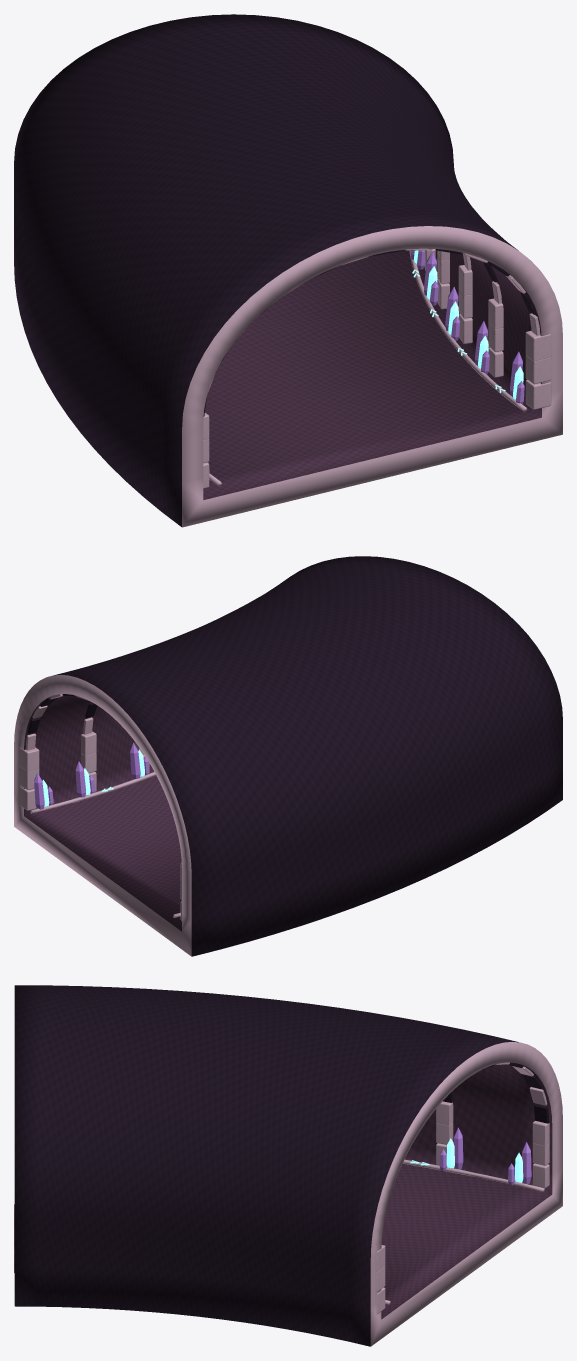
File: curve_right_30.glb
3 renders of one model, top to bottom at view 1: azimuth 30°, elevation 25°; view 2: azimuth 150°, elevation 25°; view 3: azimuth 270°, elevation 25°, orthographic. The views are drawn at different scales.
Visible parts, largest first — view 1: TunnelGeometry; view 2: TunnelGeometry; view 3: TunnelGeometry.
Part boxes in pixels (left/top/right/bottom): TunnelGeometry: left=14, top=14, right=562, bottom=527; TunnelGeometry: left=14, top=556, right=562, bottom=956; TunnelGeometry: left=14, top=985, right=562, bottom=1346.
Size of the model in its own units: 19.1 by 9.52 by 21.85.
5 materials, 2 textured.
